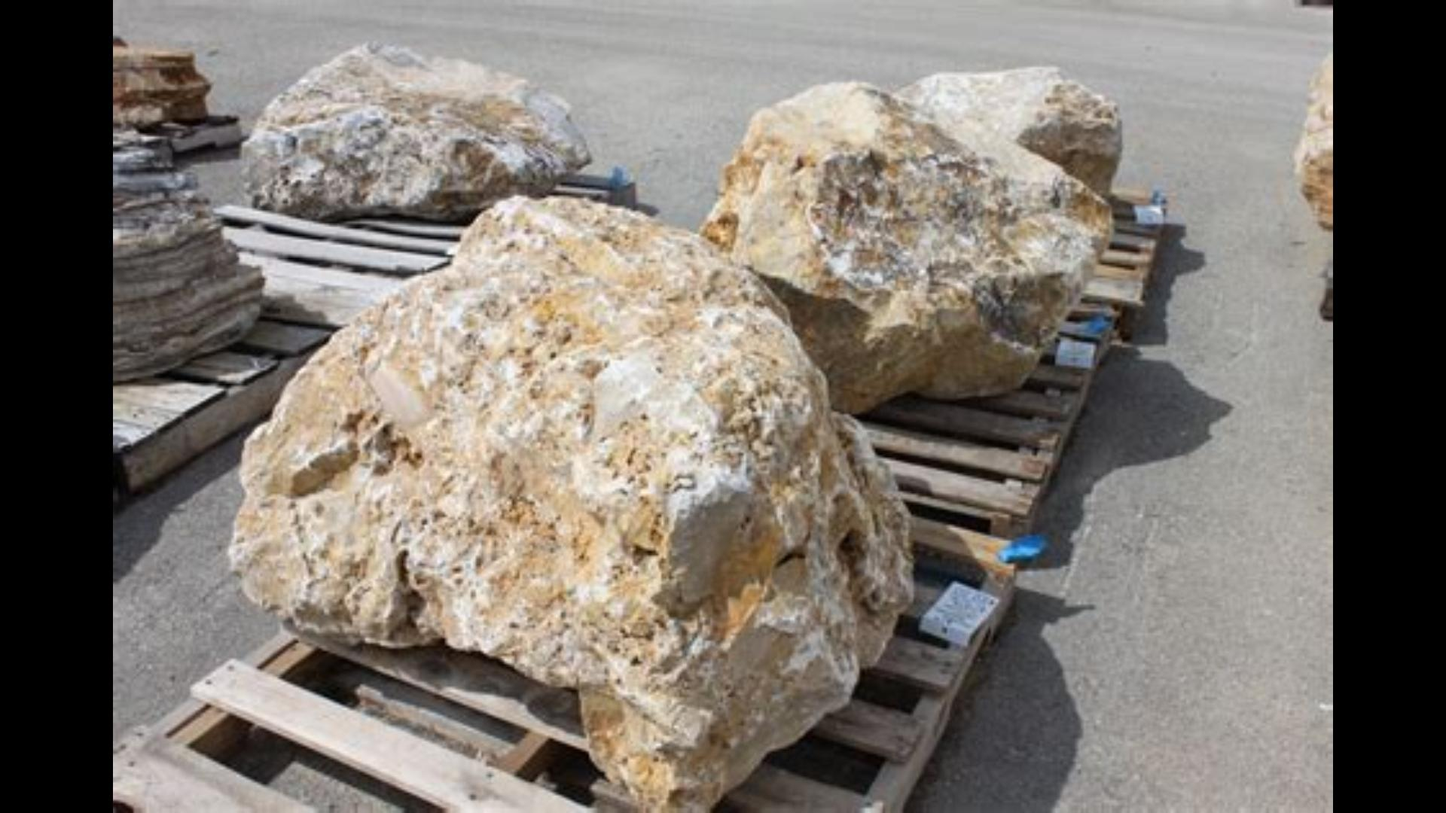rock: (237, 201, 911, 805), (697, 66, 1120, 409), (241, 44, 590, 218), (114, 130, 273, 384), (114, 35, 216, 138), (1297, 46, 1330, 233)
